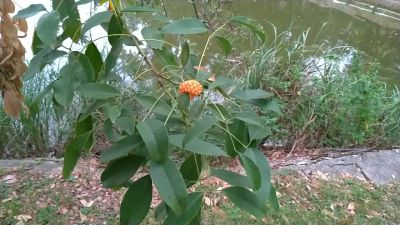eggs: (177, 76, 202, 96)
